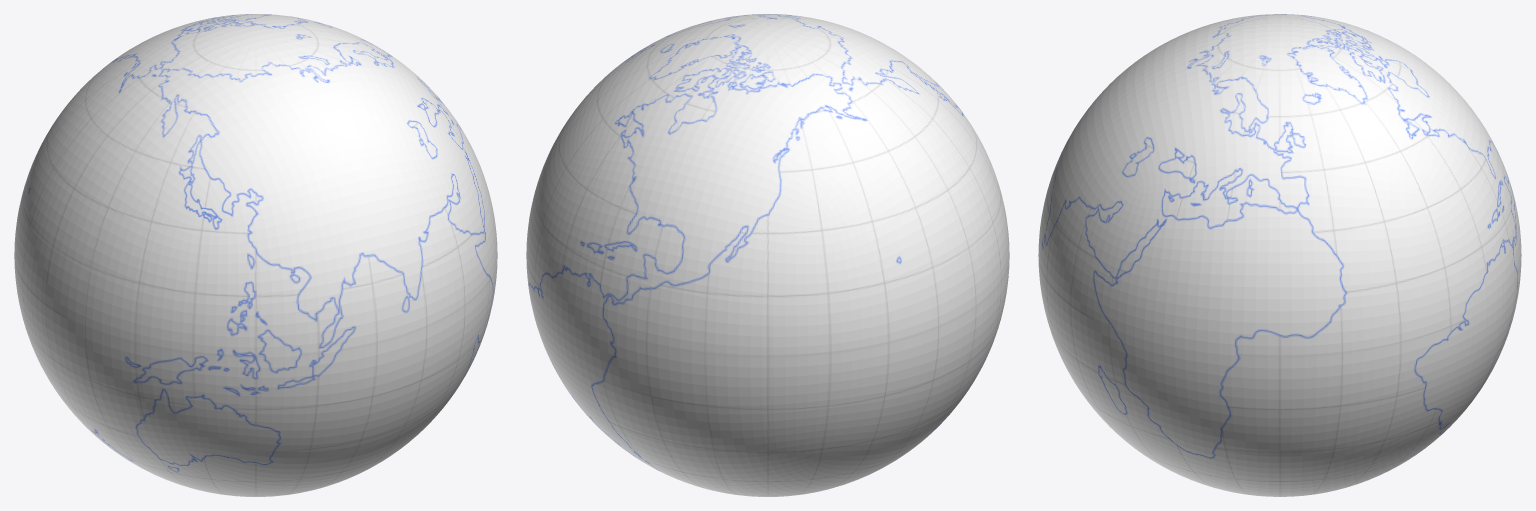
Rendered from globe2.glb.
The picture shows the model from 3 angles, left to right: view 1: azimuth 30°, elevation 25°; view 2: azimuth 150°, elevation 25°; view 3: azimuth 270°, elevation 25°; orthographic projection.
Parts seen in each view (by area): view 1: Cube; view 2: Cube; view 3: Cube.
Boxes of the visible parts, x1=… form: Cube: x1=14, y1=14, x2=497, y2=496; Cube: x1=526, y1=14, x2=1009, y2=496; Cube: x1=1038, y1=14, x2=1521, y2=496.
Bounding box in the file's own units: 1.71 × 1.71 × 1.71.
Materials: 1 (1 with a texture image).
